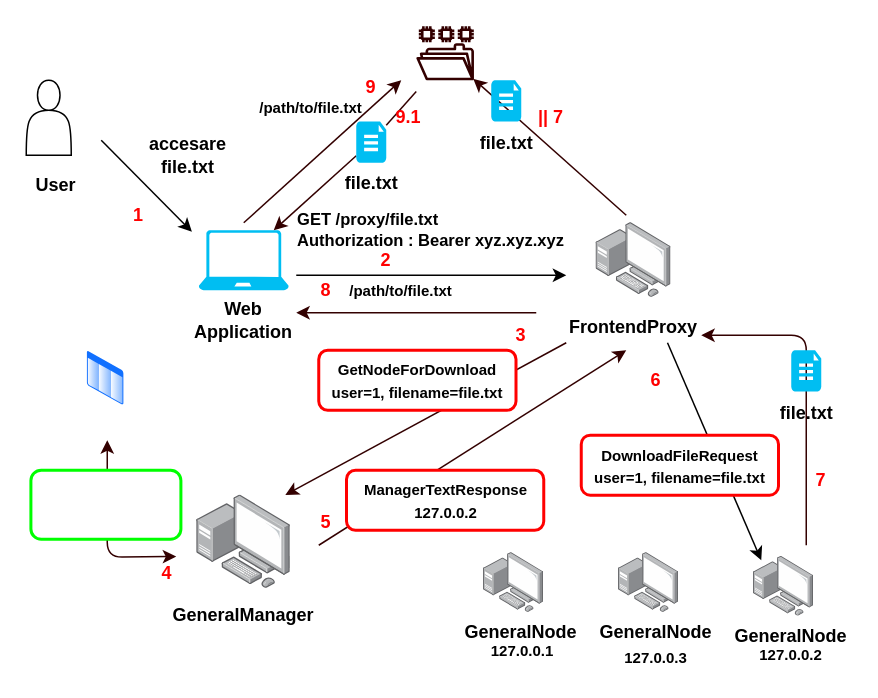
The diagram is 878 pixels wide and 698 high, and some of its shapes have lost their labels. Here are the shapes that lost their labels. From the top down, the centre of each, then its label:
(105,378): StorageStatusTable
(105,504): extragere noduri care stocheaza replica a fisierului
